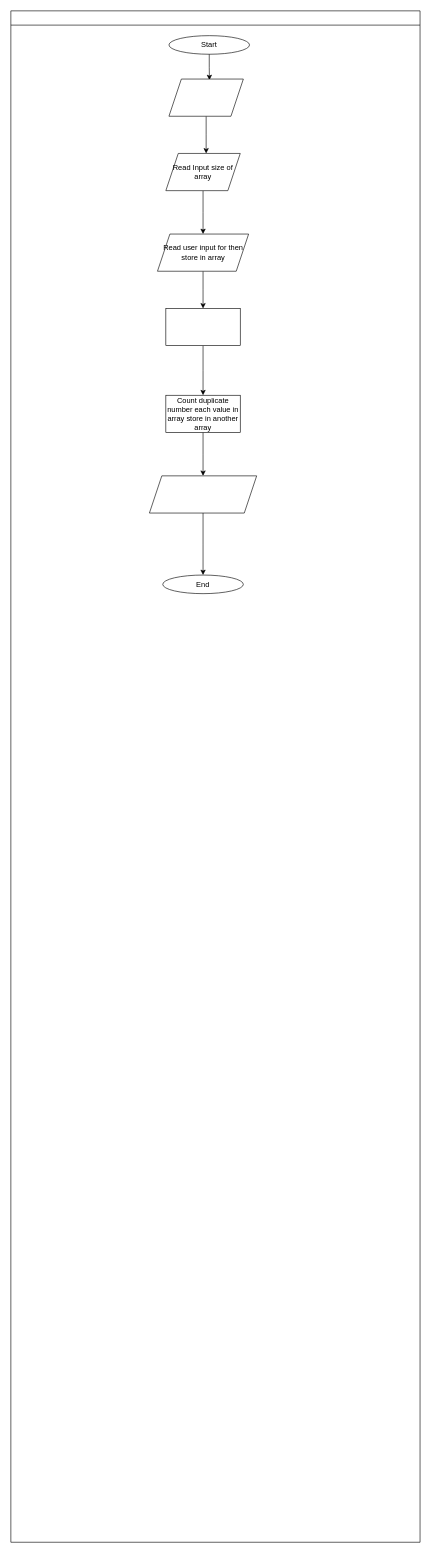
The diagram is 431 pixels wide and 1553 high, and some of its shapes have lost their labels. The shapes that lost their labels are listed below. From the top down, each one's centre as x and y in pixels, then its label:
point (205, 97): Display "Input N: "
point (202, 327): Sort array using selection sort
point (203, 494): Display whole array and duplicate number
